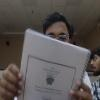notebook: (15, 27, 91, 99)
